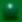green: (0, 0, 22, 22)
